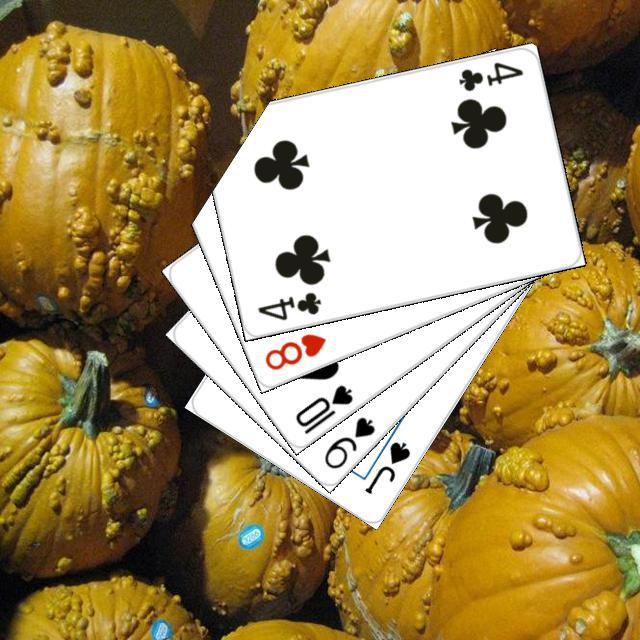10s: (290, 379, 355, 436)
4c: (454, 57, 525, 93), (253, 287, 323, 322)
8h: (260, 328, 328, 372)
9s: (318, 411, 377, 471)
Js: (360, 436, 412, 496)
